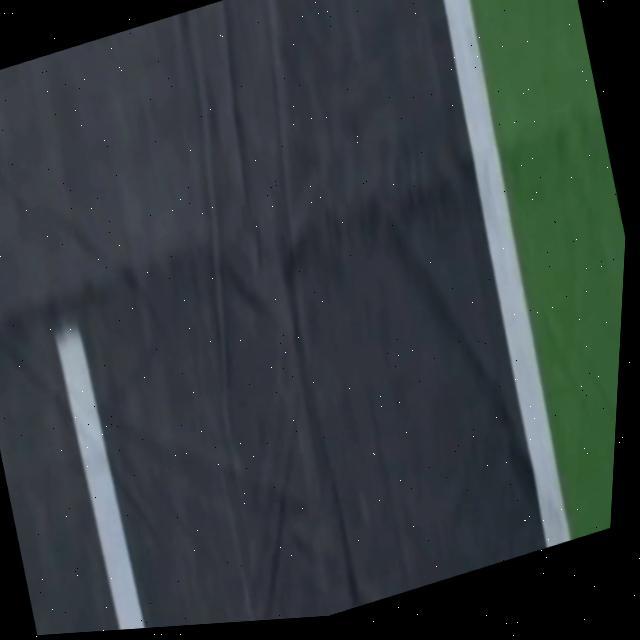center: (54, 323, 144, 630)
right: (443, 0, 570, 548)
